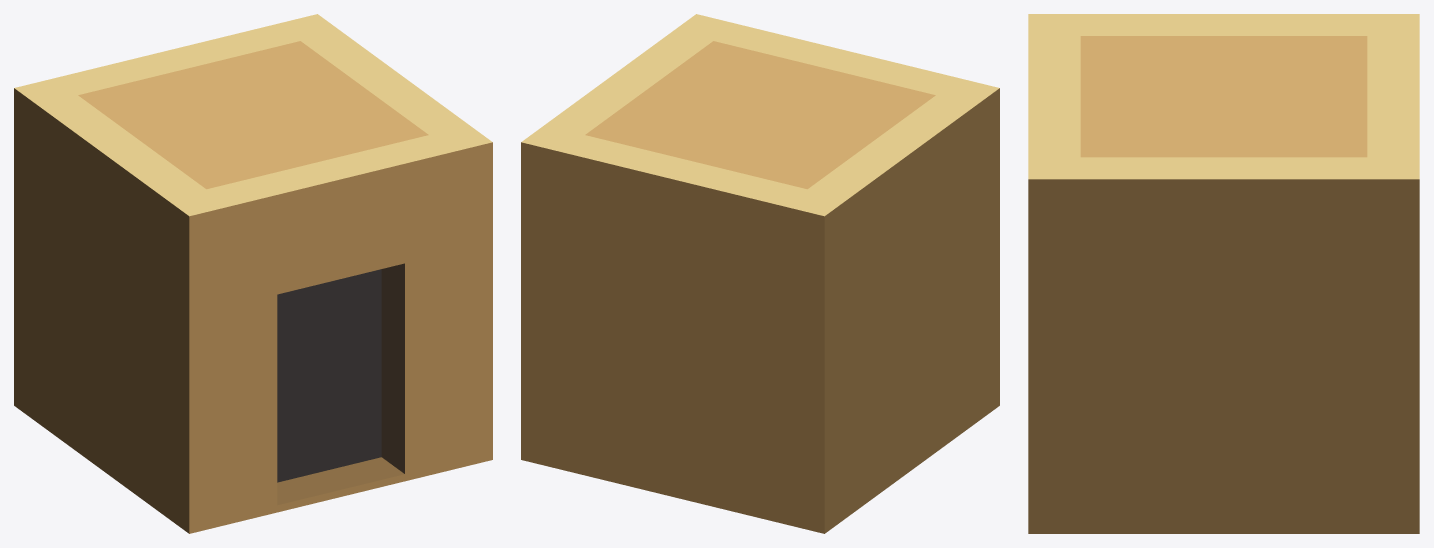
File: TB_D_Bd_TopDoor_Yel.FBX
The picture shows the model from 3 angles, left to right: view 1: azimuth 30°, elevation 25°; view 2: azimuth 150°, elevation 25°; view 3: azimuth 270°, elevation 25°; orthographic projection. The views are drawn at different scales.
Visible parts, largest first — view 1: TB_D_Bd_TopDoor_Yel; view 2: TB_D_Bd_TopDoor_Yel; view 3: TB_D_Bd_TopDoor_Yel.
Part boxes in pixels (box(x1,y1,x2,y2)): TB_D_Bd_TopDoor_Yel: box(14, 14, 492, 533); TB_D_Bd_TopDoor_Yel: box(521, 14, 999, 533); TB_D_Bd_TopDoor_Yel: box(1028, 14, 1419, 533).
Size of the model in its own units: 1.5 by 1.5 by 1.5.
